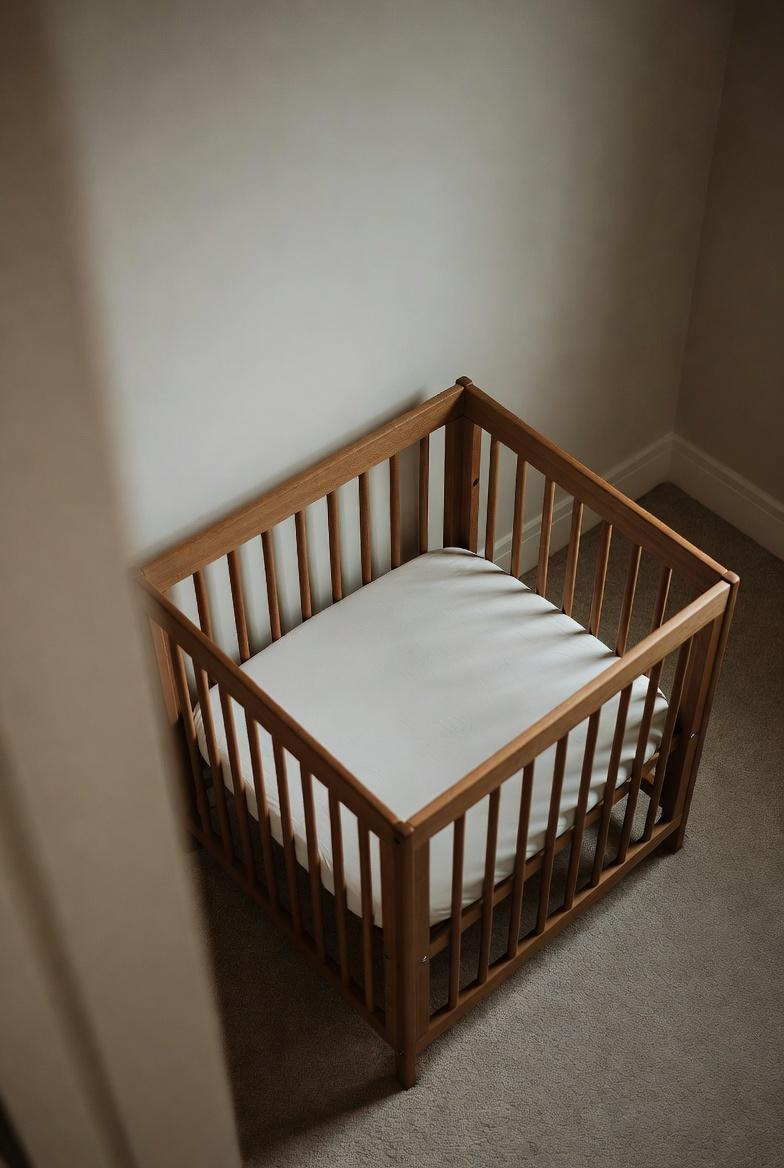crib: (139, 378, 738, 1086)
